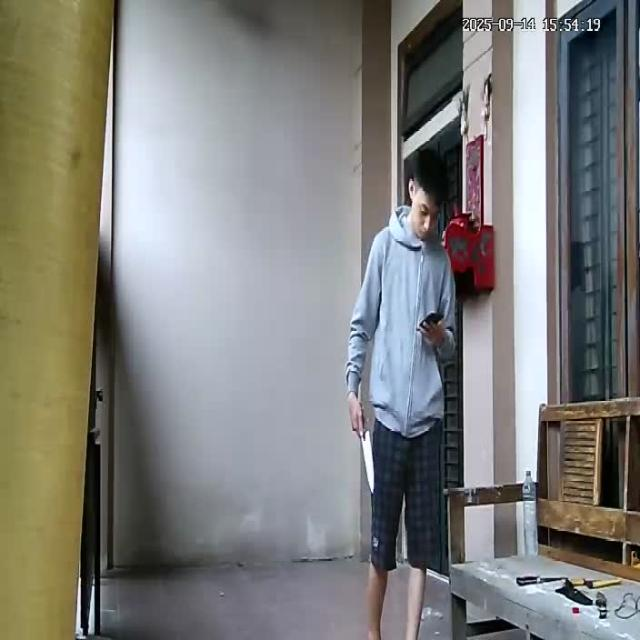senjata_tajam: (360, 430, 378, 494)
